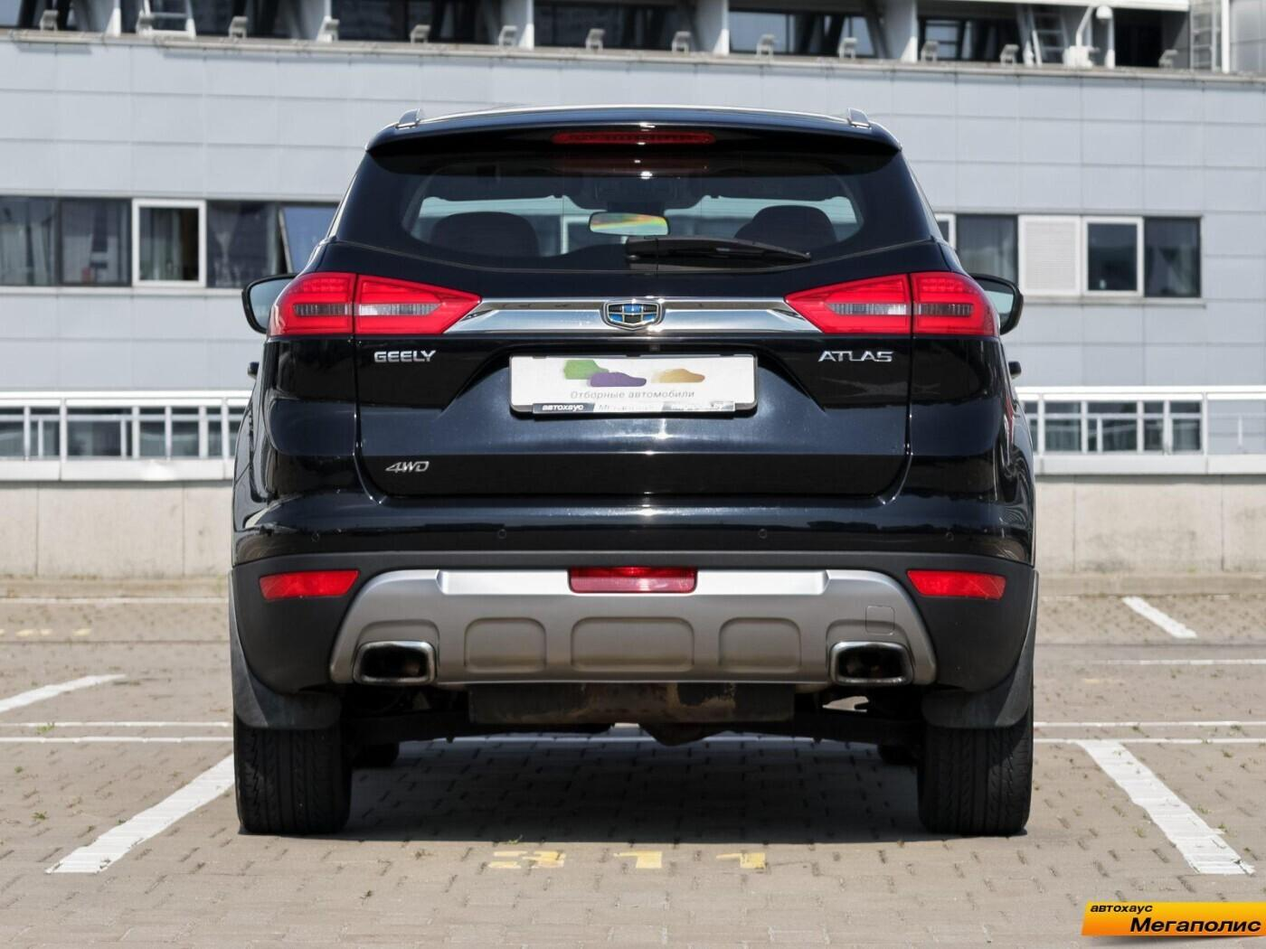Atlas_2016-2023: (209, 101, 1061, 852)
